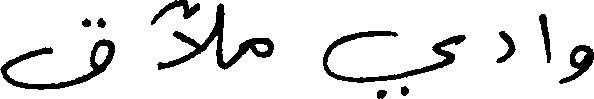X: (324, 26, 464, 98), (0, 13, 113, 94), (158, 0, 221, 74), (559, 40, 593, 88), (498, 26, 514, 67), (539, 9, 550, 67), (251, 33, 271, 62)
